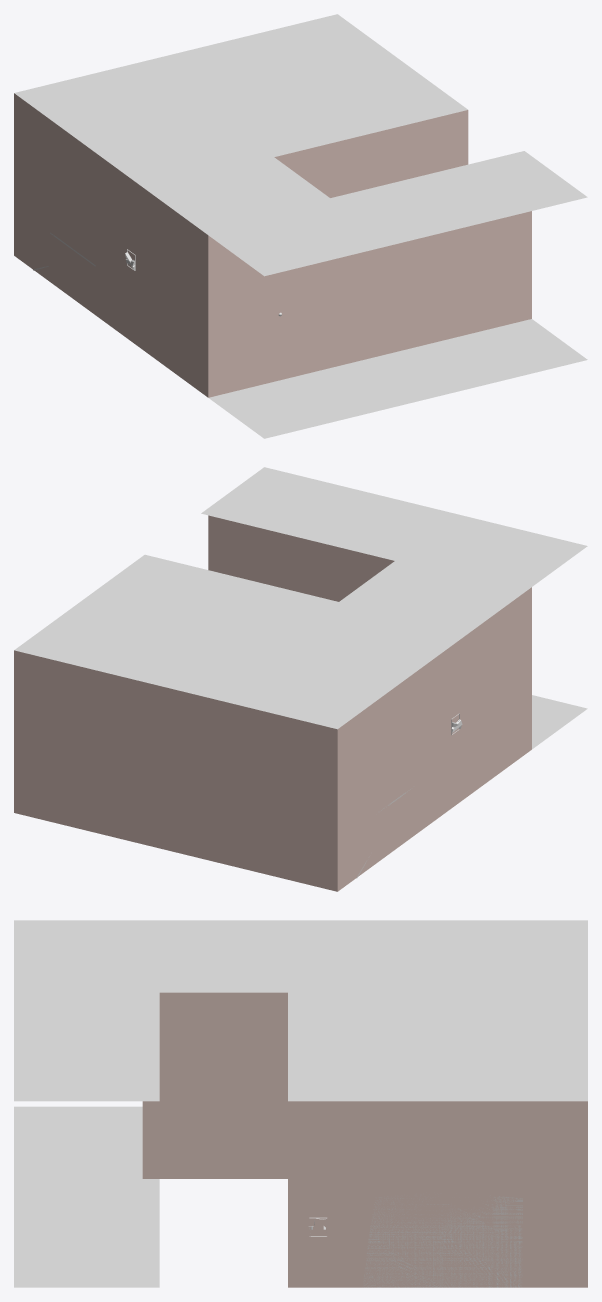
Rendered from Room.fbx.
3 renders of one model, top to bottom at view 1: azimuth 30°, elevation 25°; view 2: azimuth 150°, elevation 25°; view 3: azimuth 270°, elevation 25°, orthographic. The views are drawn at different scales.
Visible parts, largest first — view 1: Ceiling, Walls, Corridor_Floor, Corridor_Walls, Corridor_Walls.001, Doorway; view 2: Walls, Ceiling, Corridor_Floor, Corridor_Walls, Doorway; view 3: Walls, Ceiling, Corridor_Floor, Bed, Doorway.
Part boxes in pixels (bbox=[...]): Ceiling: bbox=[14, 14, 467, 229]; Walls: bbox=[14, 93, 468, 391]; Corridor_Floor: bbox=[201, 151, 587, 438]; Corridor_Walls: bbox=[208, 211, 531, 397]; Corridor_Walls.001: bbox=[226, 255, 289, 393]; Doorway: bbox=[201, 230, 208, 397]; Walls: bbox=[14, 593, 524, 891]; Ceiling: bbox=[14, 554, 523, 729]; Corridor_Floor: bbox=[201, 467, 587, 749]; Corridor_Walls: bbox=[208, 515, 394, 601]; Doorway: bbox=[524, 587, 531, 754]; Walls: bbox=[159, 992, 587, 1287]; Ceiling: bbox=[159, 920, 587, 1101]; Corridor_Floor: bbox=[14, 920, 159, 1287]; Bed: bbox=[363, 1195, 522, 1287]; Doorway: bbox=[142, 1101, 159, 1178].
Size of what is drawn, in the model's own units: 507 by 247 by 670.
